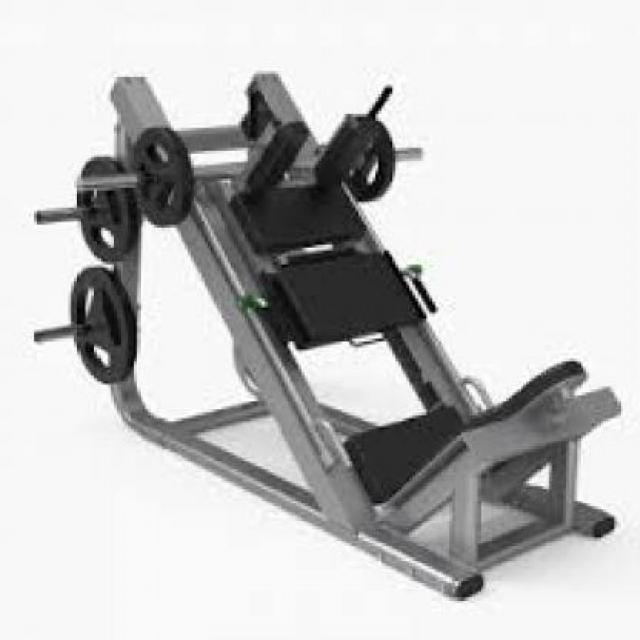leg press: (24, 50, 640, 621)
